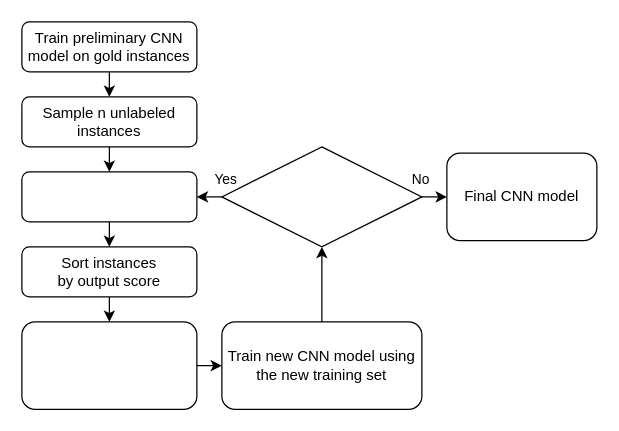
Image size: 619x431. Some labels were removed from this diagram. The shapes that lost their labels are listed below. From the top down, each one's centre as x and y in pixels, then its label:
At pixel 109 196: "Label silver instances".
At pixel 321 196: "Are any unlabeled samples left?".
At pixel 109 365: "Append lowest and highest m values and their associated text to the training set".
